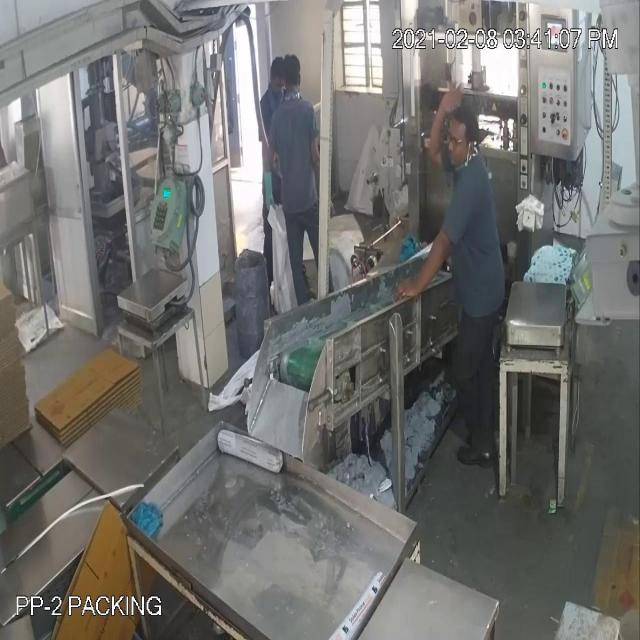No_Gloves: (38, 86, 446, 260)
